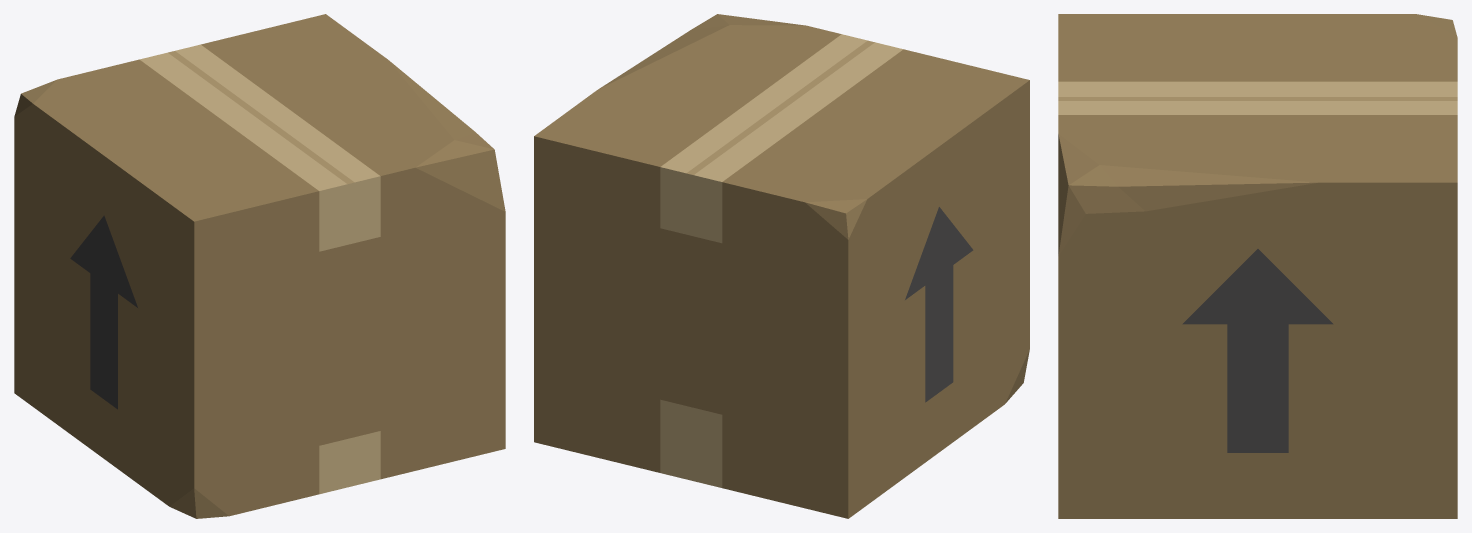
The model's file is SM_Prop_CardboardBox_01.fbx.
3 renders of one model, left to right at view 1: azimuth 30°, elevation 25°; view 2: azimuth 150°, elevation 25°; view 3: azimuth 270°, elevation 25°, orthographic. The views are drawn at different scales.
Visible parts, largest first — view 1: SM_Prop_CardboardBox_01; view 2: SM_Prop_CardboardBox_01; view 3: SM_Prop_CardboardBox_01.
Boxes of the visible parts, x1,y1,x2,y2 form: SM_Prop_CardboardBox_01: (14,14,505,518); SM_Prop_CardboardBox_01: (534,14,1029,518); SM_Prop_CardboardBox_01: (1058,14,1457,518).
Size of the model in its own units: 50 by 46.51 by 50.
